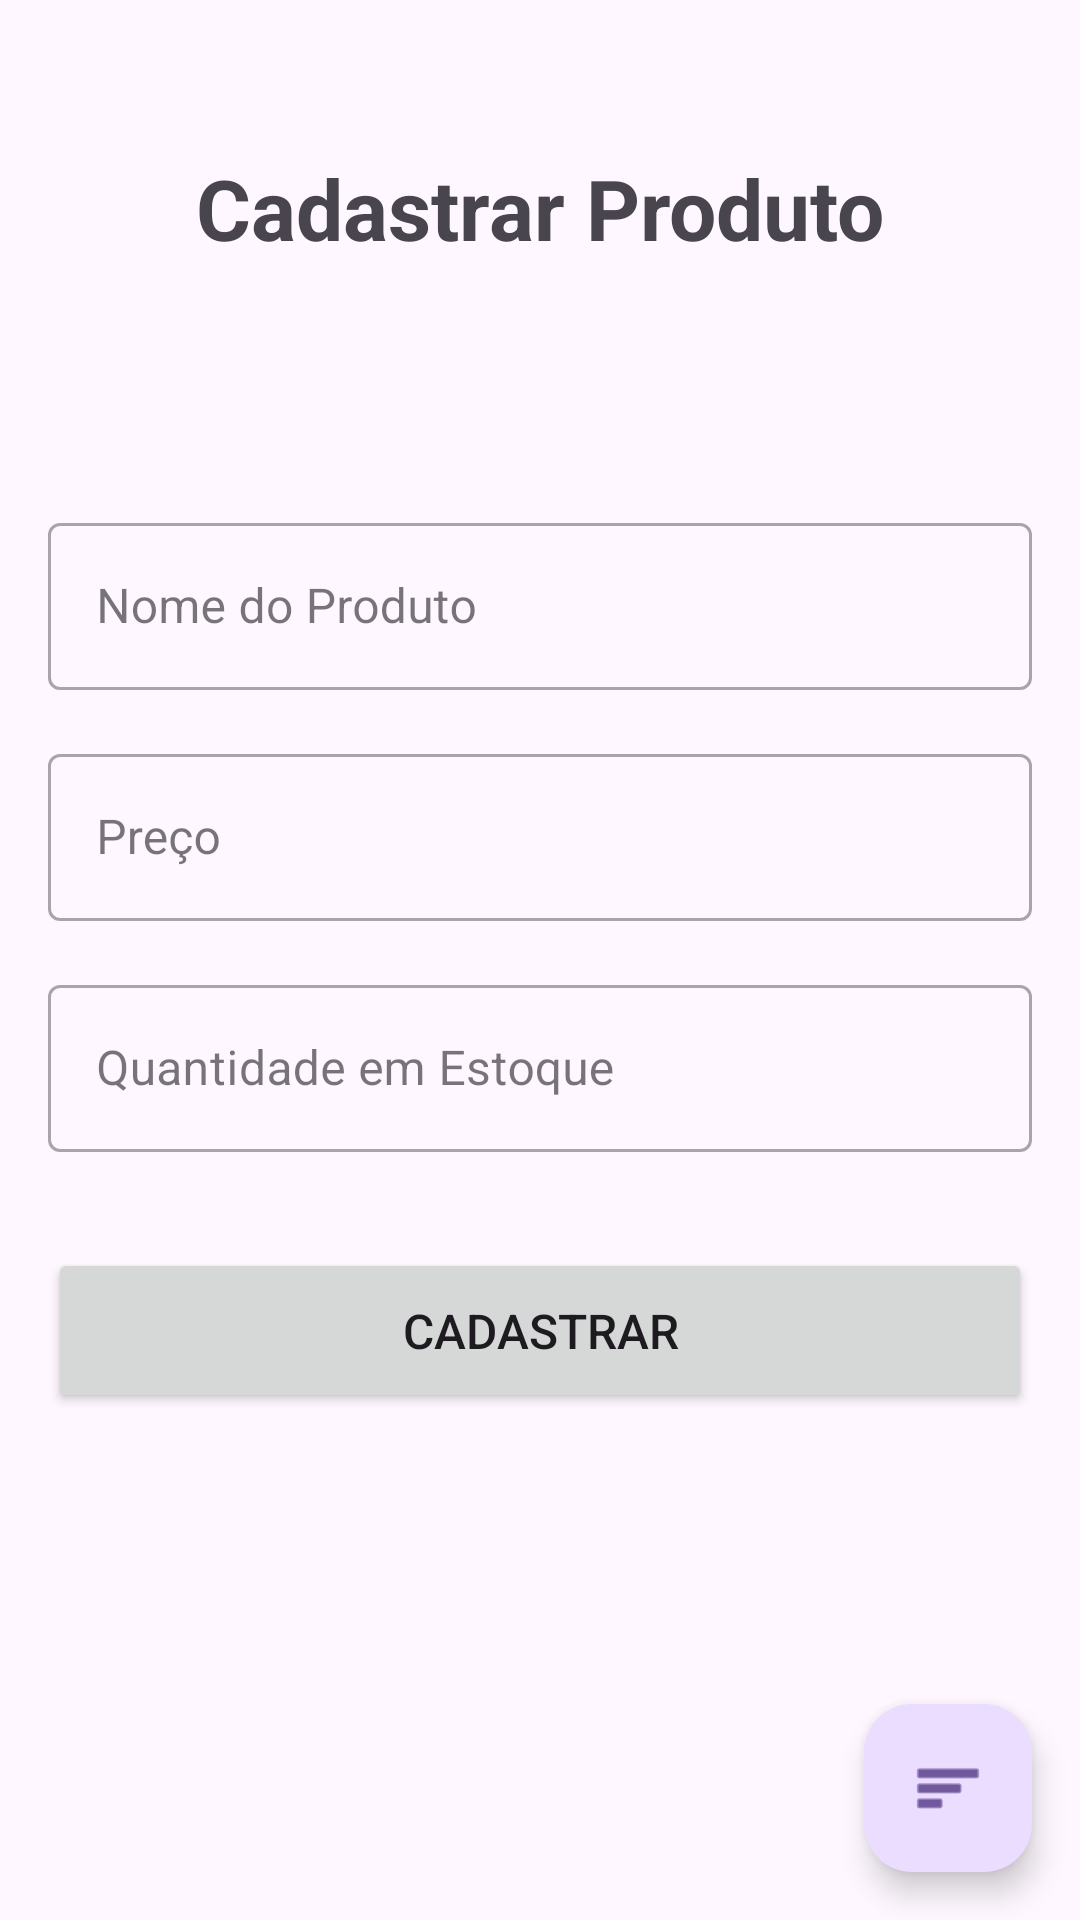

Where to tap for icons on this 1080px×1920px app screen, as (x=x, y=y):
Ver lista de produtos: (x=948, y=1788)
